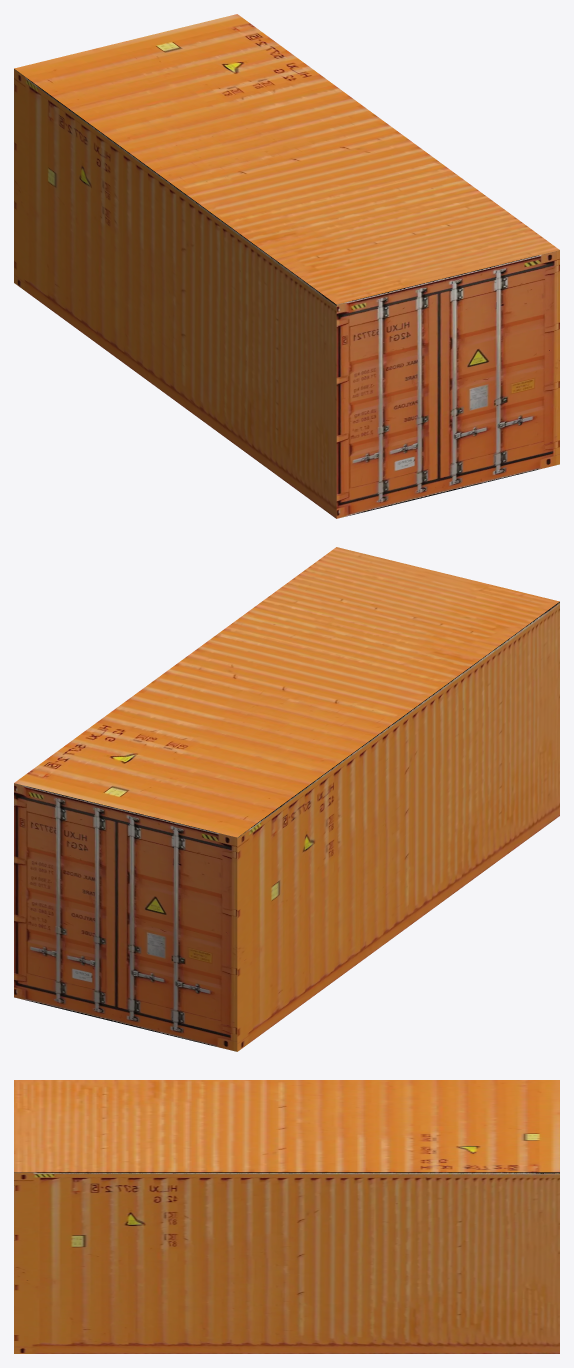
Rendered from modular-containers-and-barrells-pack-game-ready-container-320.glb.
3 renders of one model, top to bottom at view 1: azimuth 30°, elevation 25°; view 2: azimuth 150°, elevation 25°; view 3: azimuth 270°, elevation 25°, orthographic. The views are drawn at different scales.
Parts seen in each view (by area): view 1: container_320; view 2: container_320; view 3: container_320.
Part boxes in pixels (x1=…): container_320: x1=14, y1=14, x2=559, y2=518; container_320: x1=14, y1=547, x2=559, y2=1051; container_320: x1=14, y1=1080, x2=559, y2=1353.
Size of the model in its own units: 2.4 by 2.2 by 6.
1 material, 1 textured.
